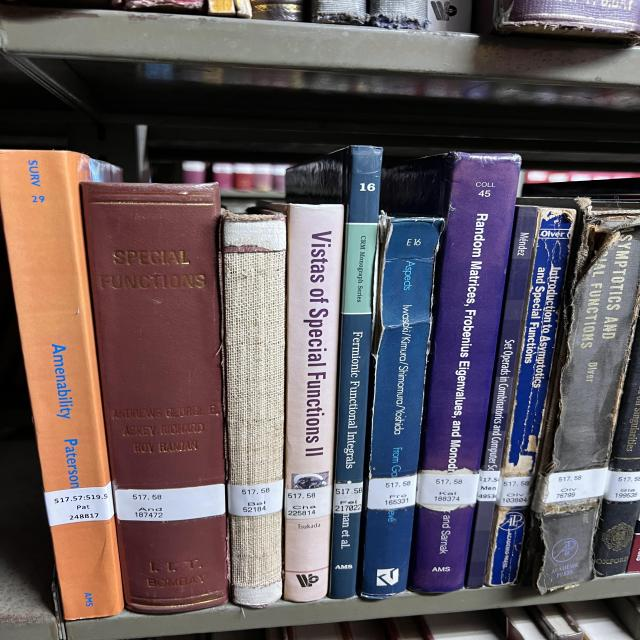Book: (82, 182, 228, 612), (382, 152, 522, 592), (0, 150, 123, 620), (523, 199, 640, 594), (287, 145, 382, 599), (485, 211, 573, 585), (360, 216, 443, 599), (268, 204, 345, 602), (465, 206, 538, 589), (222, 212, 287, 608), (593, 319, 640, 576), (288, 154, 345, 199)
Label: (113, 484, 225, 521), (45, 482, 113, 526), (543, 468, 608, 502), (228, 480, 283, 516), (417, 474, 478, 505), (367, 475, 417, 510), (285, 485, 332, 519), (603, 470, 640, 501), (497, 476, 532, 506), (333, 482, 363, 514), (477, 470, 500, 501)
